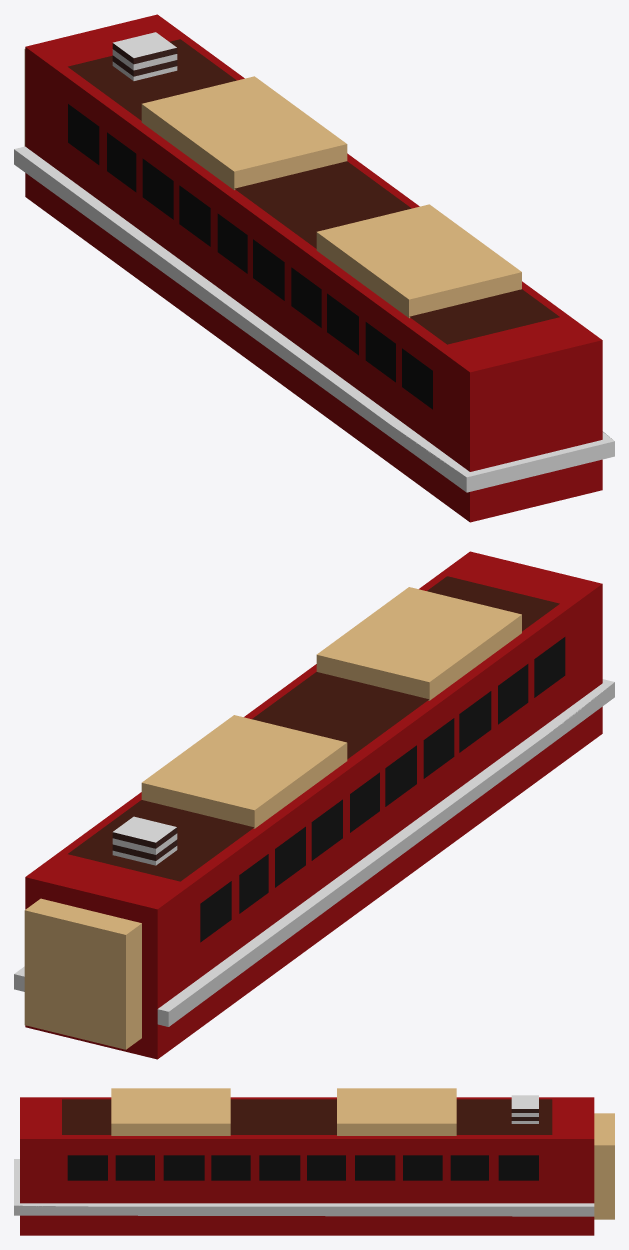
The model's file is train (2).fbx.
3 views of the same model, one above another, from view 1: azimuth 30°, elevation 25°; view 2: azimuth 150°, elevation 25°; view 3: azimuth 270°, elevation 25° (orthographic). The views are drawn at different scales.
Visible parts, largest first — view 1: Cube.008; view 2: Cube.008; view 3: Cube.008.
Boxes of the visible parts, x1=… form: Cube.008: x1=14, y1=14, x2=614, y2=522; Cube.008: x1=14, y1=551, x2=614, y2=1059; Cube.008: x1=14, y1=1088, x2=614, y2=1235.
Size of the model in its own units: 379 by 409 by 1977.
